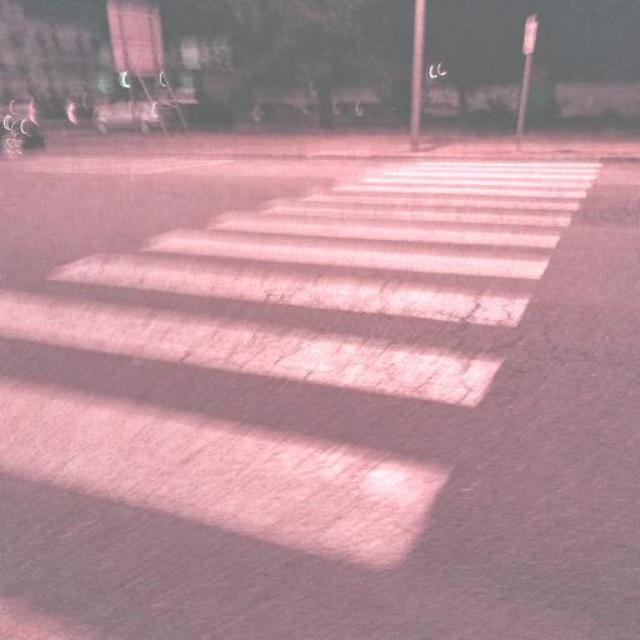sidewalk: (0, 153, 602, 640)
